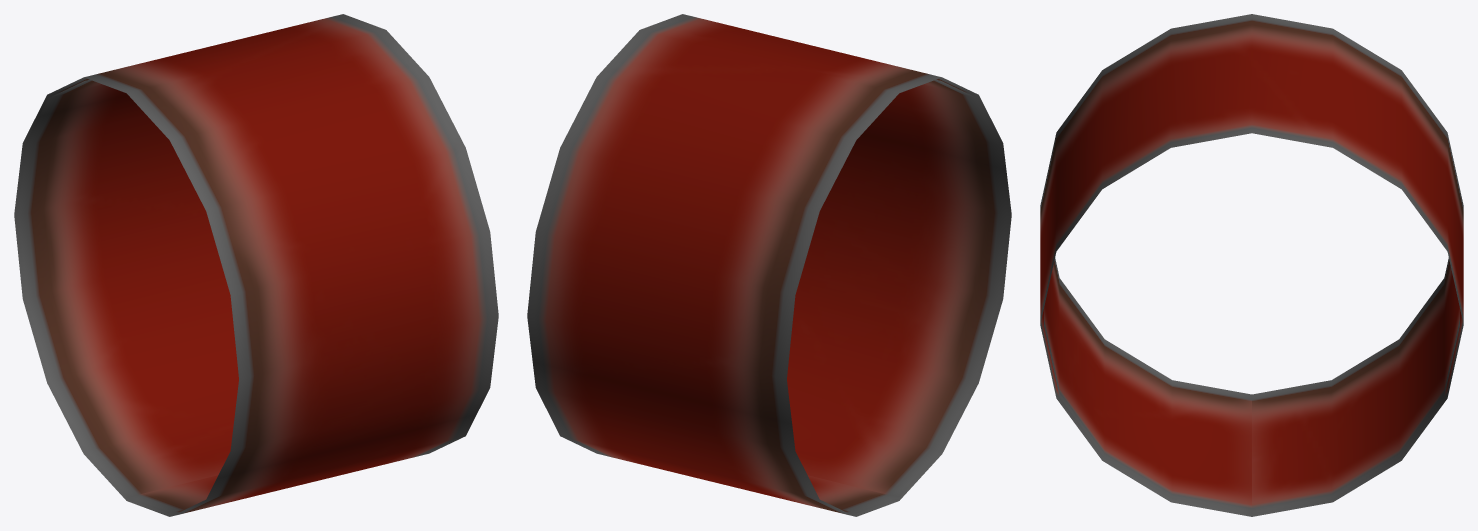
Rendered from pipe01_str_8a_hollow.fbx.
3 views of the same model, side by side, from view 1: azimuth 30°, elevation 25°; view 2: azimuth 150°, elevation 25°; view 3: azimuth 270°, elevation 25° (orthographic). The views are drawn at different scales.
Visible parts, largest first — view 1: pipe01_str_8a_hollow; view 2: pipe01_str_8a_hollow; view 3: pipe01_str_8a_hollow.
Part boxes in pixels (x1,y1,x2,y2): pipe01_str_8a_hollow: (14,14,498,516); pipe01_str_8a_hollow: (527,14,1011,516); pipe01_str_8a_hollow: (1040,14,1463,516).
Bounding box in the file's own units: 8 × 12 × 12.
